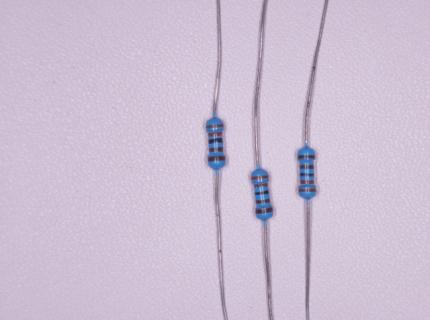Black band: (208, 138, 223, 144), (255, 191, 269, 195), (300, 173, 314, 176)
Brown band: (256, 207, 273, 214), (208, 156, 226, 161), (297, 155, 316, 159), (209, 147, 223, 152), (256, 199, 270, 204), (300, 165, 314, 169)
Orange band: (206, 124, 223, 129), (252, 175, 269, 180), (299, 189, 316, 193), (209, 132, 222, 137), (254, 183, 267, 188), (301, 180, 314, 184)
